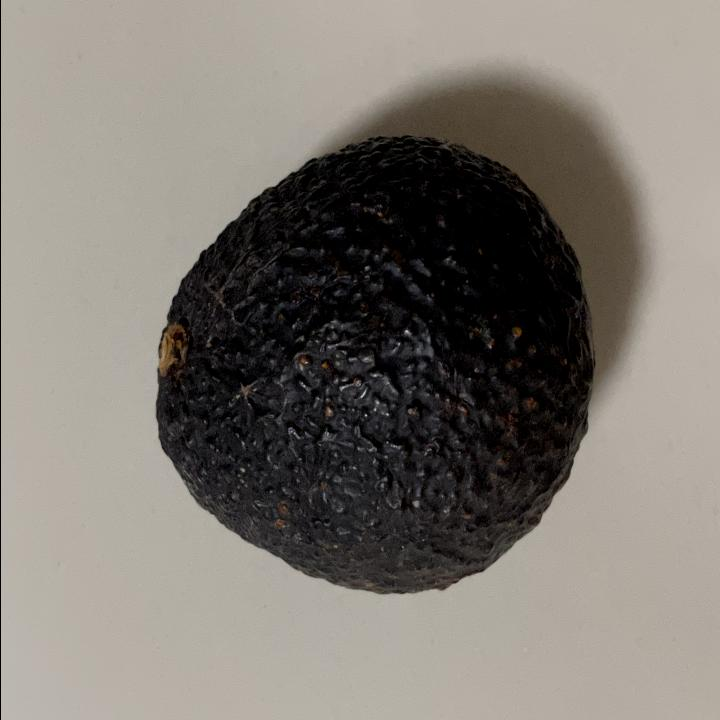Level2: (149, 126, 596, 604)
